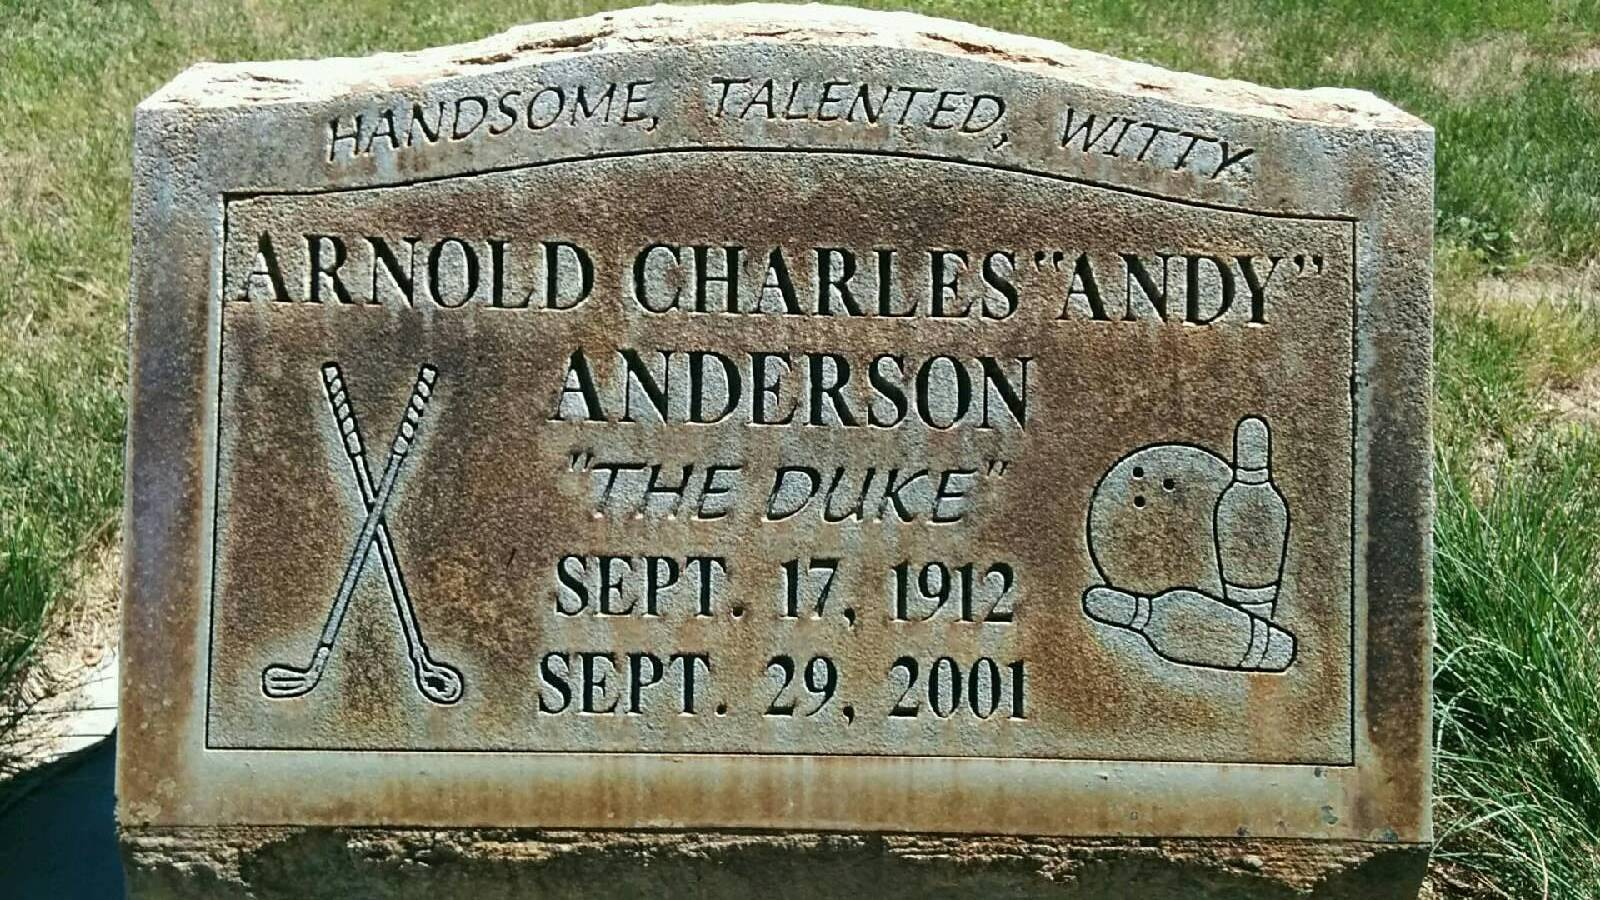upright: (60, 16, 1501, 898)
